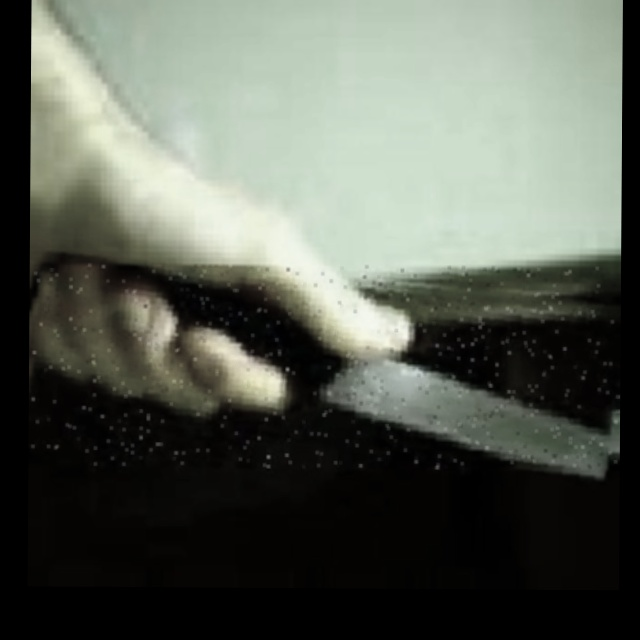Sharp-Object: (31, 263, 620, 469)
